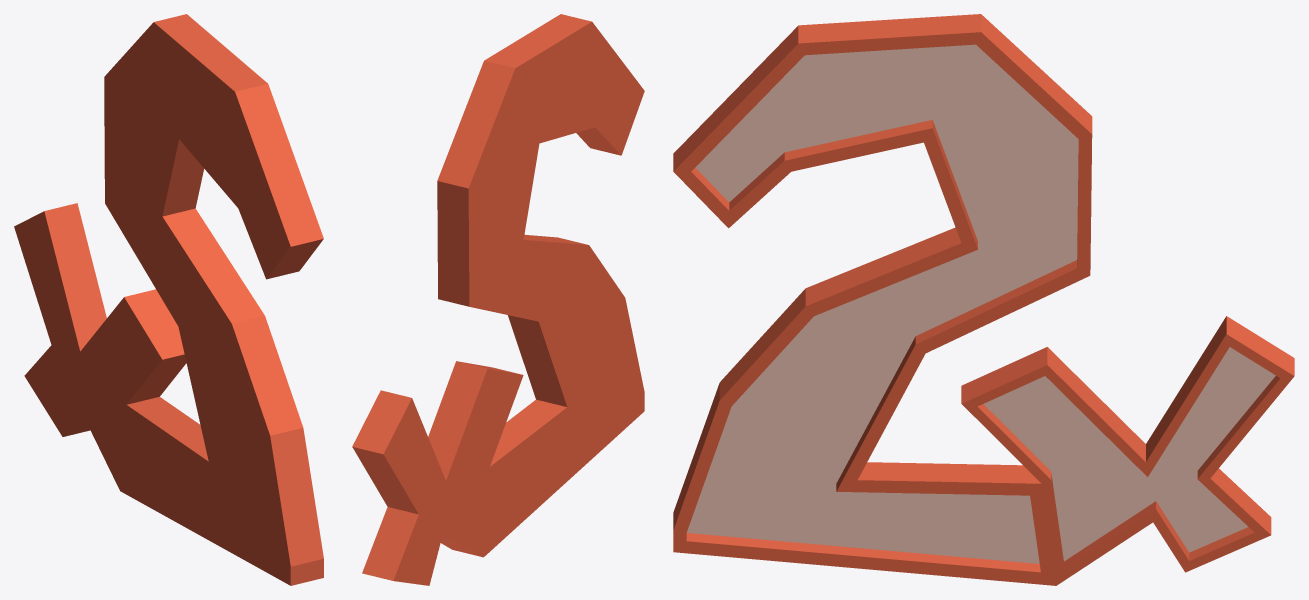
The model's file is speed_up.fbx.
The picture shows the model from 3 angles, left to right: view 1: azimuth 30°, elevation 25°; view 2: azimuth 150°, elevation 25°; view 3: azimuth 270°, elevation 25°; orthographic projection. The views are drawn at different scales.
Visible parts, largest first — view 1: Plane; view 2: Plane; view 3: Plane.
Boxes of the visible parts, bbox=[...] form: Plane: bbox=[14, 14, 323, 585]; Plane: bbox=[352, 14, 644, 585]; Plane: bbox=[673, 14, 1294, 585].
Size of the model in its own units: 13.13 by 187 by 190.
